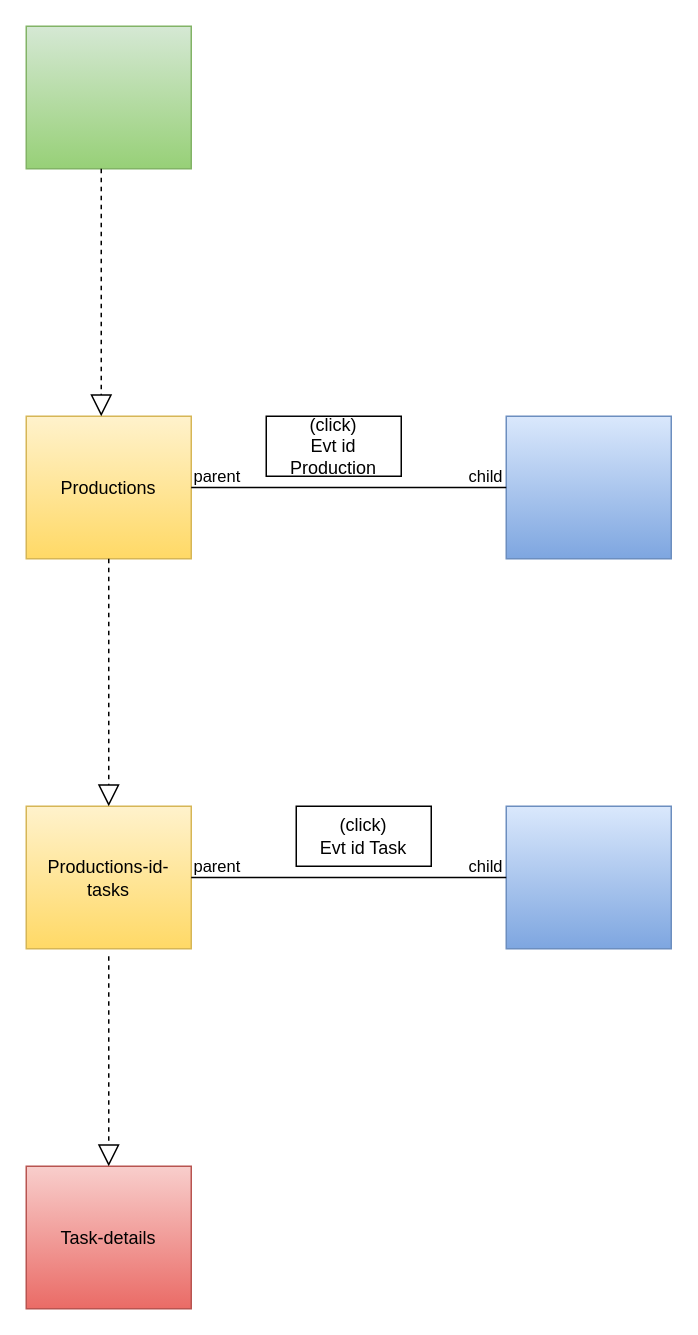
Image size: 698x1335. Some labels were removed from this diagram. The shapes that lost their labels are listed below. From the top down, each one's box as (x1, y1, x2, y2) in pixels, then its label:
(25, 25, 191, 169): Login
(505, 415, 671, 559): Production
(505, 805, 671, 949): Productions-id-task
